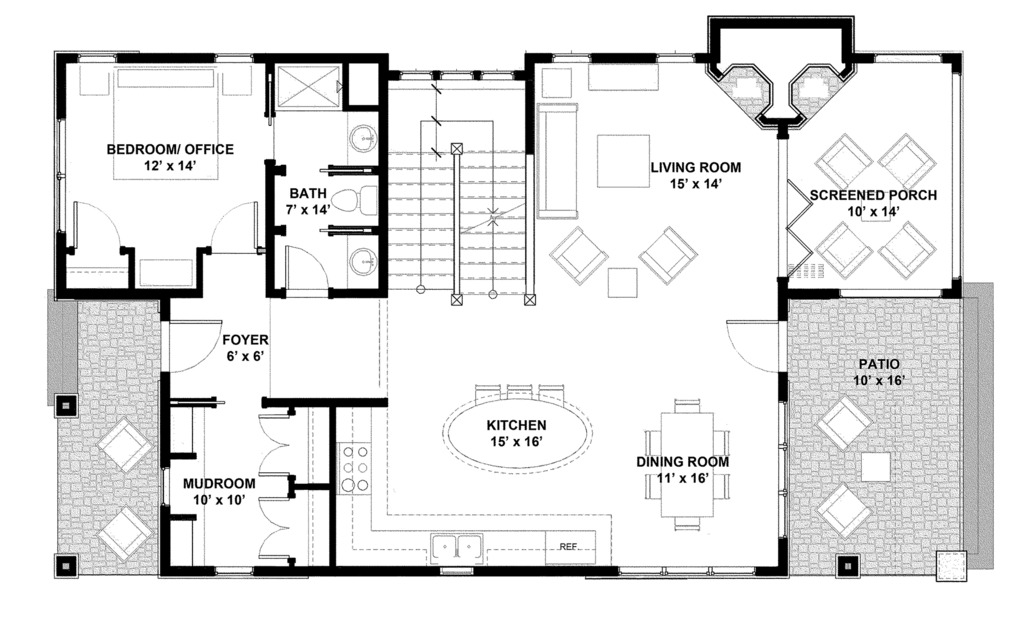dining_table: (636, 392, 740, 539)
door: (722, 315, 795, 373), (160, 317, 227, 377), (67, 196, 127, 254), (278, 241, 336, 301), (201, 202, 262, 254), (254, 491, 297, 562), (256, 409, 296, 484)
kitchen_bar: (424, 366, 605, 476)
large_sink: (325, 177, 375, 225)
large_sofa: (532, 94, 584, 223)
small_sink: (334, 232, 389, 291), (340, 114, 383, 163)
small_sofa: (807, 388, 881, 454), (638, 220, 701, 288), (547, 222, 608, 288), (88, 408, 150, 471), (816, 123, 875, 189), (879, 221, 938, 283), (813, 222, 875, 280), (879, 133, 936, 194), (90, 508, 151, 564), (810, 481, 871, 536)
stairs: (384, 79, 534, 308)
twin_sink: (420, 522, 493, 573)
window: (548, 46, 592, 68), (75, 48, 120, 64), (653, 52, 702, 66)
